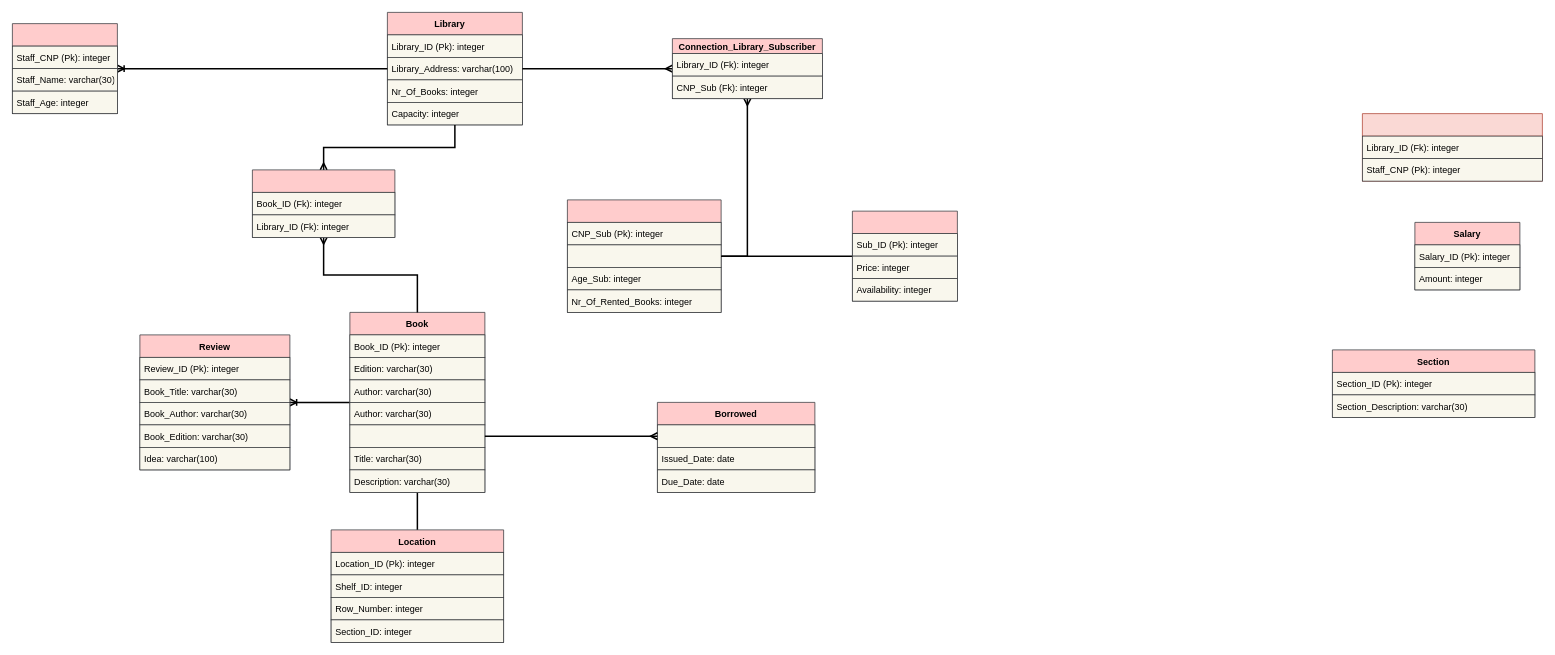
Image size: 1555x655. Some labels were removed from this diagram. Here are the shapes that lost their labels. From the top down, the box of each, then its label:
(12, 23, 117, 114): Staff_Member
(1362, 113, 1542, 181): Connection_Staff_Member_Library
(252, 169, 395, 237): Connection_Library_Book
(567, 244, 721, 267): Name_Sub: varchar(30)
(567, 199, 721, 312): Subscriber
(852, 210, 957, 301): Subscription
(349, 424, 485, 447): Publisher: varchar(30)
(657, 424, 815, 447): Borrowed_ID (Pk): integer
